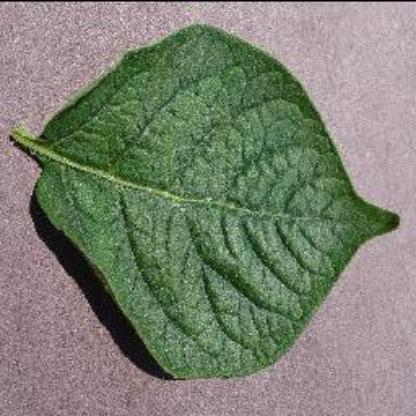Healthy-plant: (19, 11, 400, 399)
